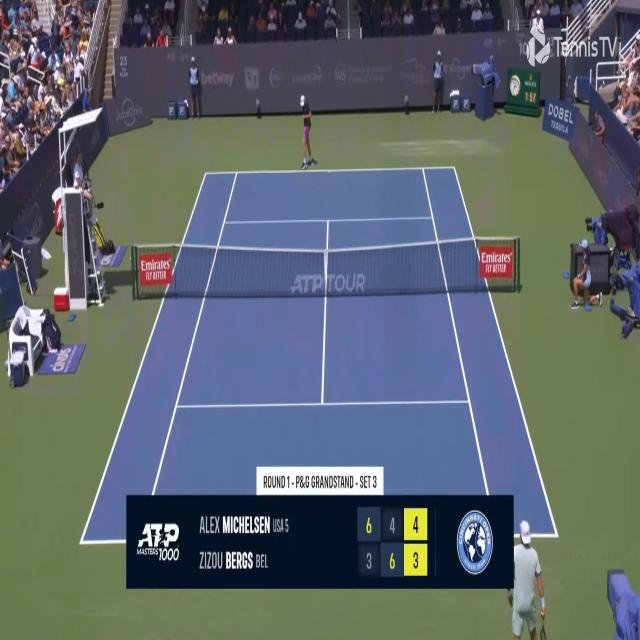tennis-player: (506, 515, 550, 639), (297, 94, 317, 172)
